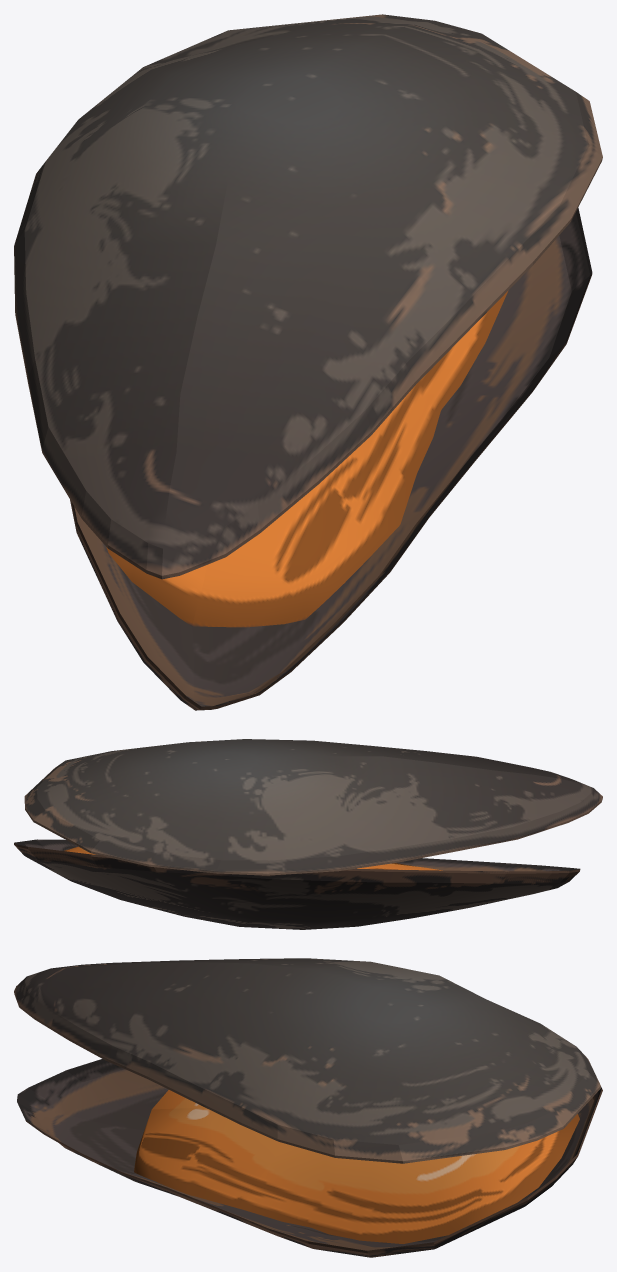
File: mussel.glb
The picture shows the model from 3 angles, top to bottom: view 1: azimuth 30°, elevation 25°; view 2: azimuth 150°, elevation 25°; view 3: azimuth 270°, elevation 25°; orthographic projection. The views are drawn at different scales.
Visible parts, largest first — view 1: Mollusc_Mussel; view 2: Mollusc_Mussel; view 3: Mollusc_Mussel.
Part boxes in pixels (<box>): Mollusc_Mussel: <box>14,14,602,710</box>; Mollusc_Mussel: <box>14,739,602,929</box>; Mollusc_Mussel: <box>14,958,602,1257</box>.
Size of the model in its own units: 0.0756 by 0.0341 by 0.0778.
1 material, 1 textured.
